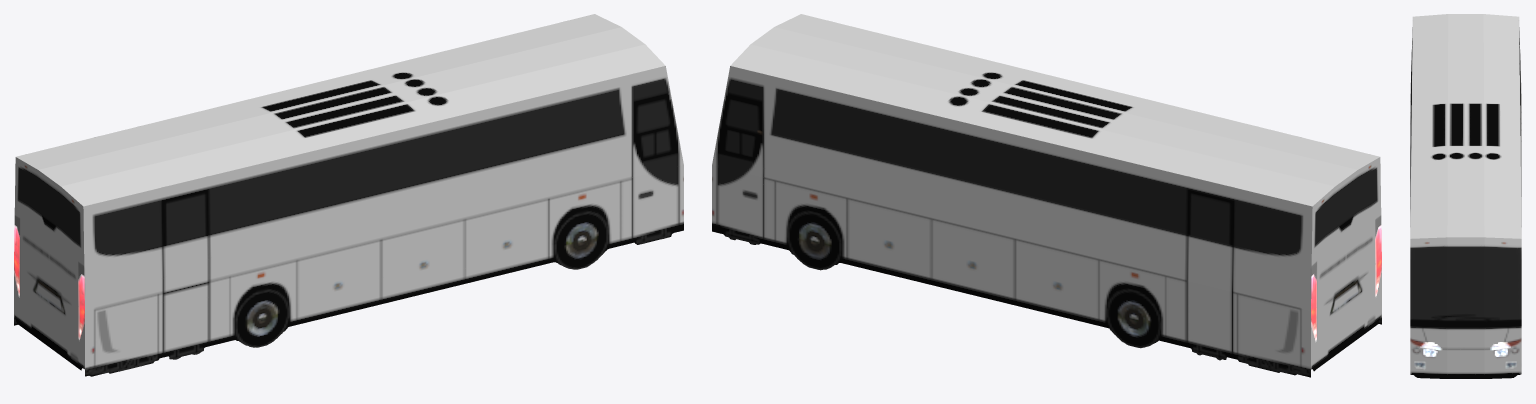
The model's file is bus1.glb.
The picture shows the model from 3 angles, left to right: view 1: azimuth 30°, elevation 25°; view 2: azimuth 150°, elevation 25°; view 3: azimuth 270°, elevation 25°; orthographic projection. The views are drawn at different scales.
Parts seen in each view (by area): view 1: Cube.003; view 2: Cube.003; view 3: Cube.003.
Boxes of the visible parts, bbox=[...] form: Cube.003: bbox=[14, 14, 683, 376]; Cube.003: bbox=[712, 14, 1381, 377]; Cube.003: bbox=[1410, 14, 1521, 378].
Size of the model in its own units: 10.1 by 2.98 by 2.06.
1 material, 1 textured.
